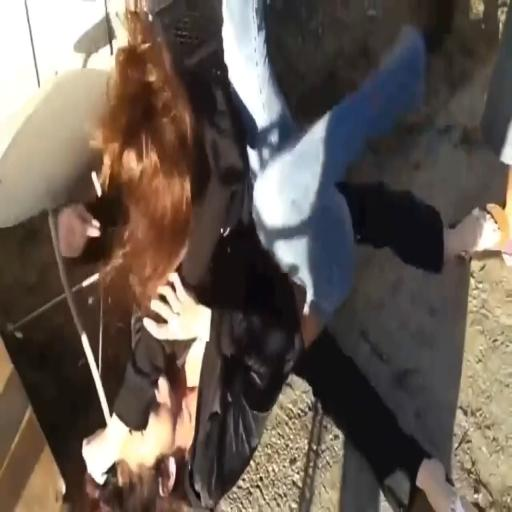violencia: (48, 0, 450, 512)
